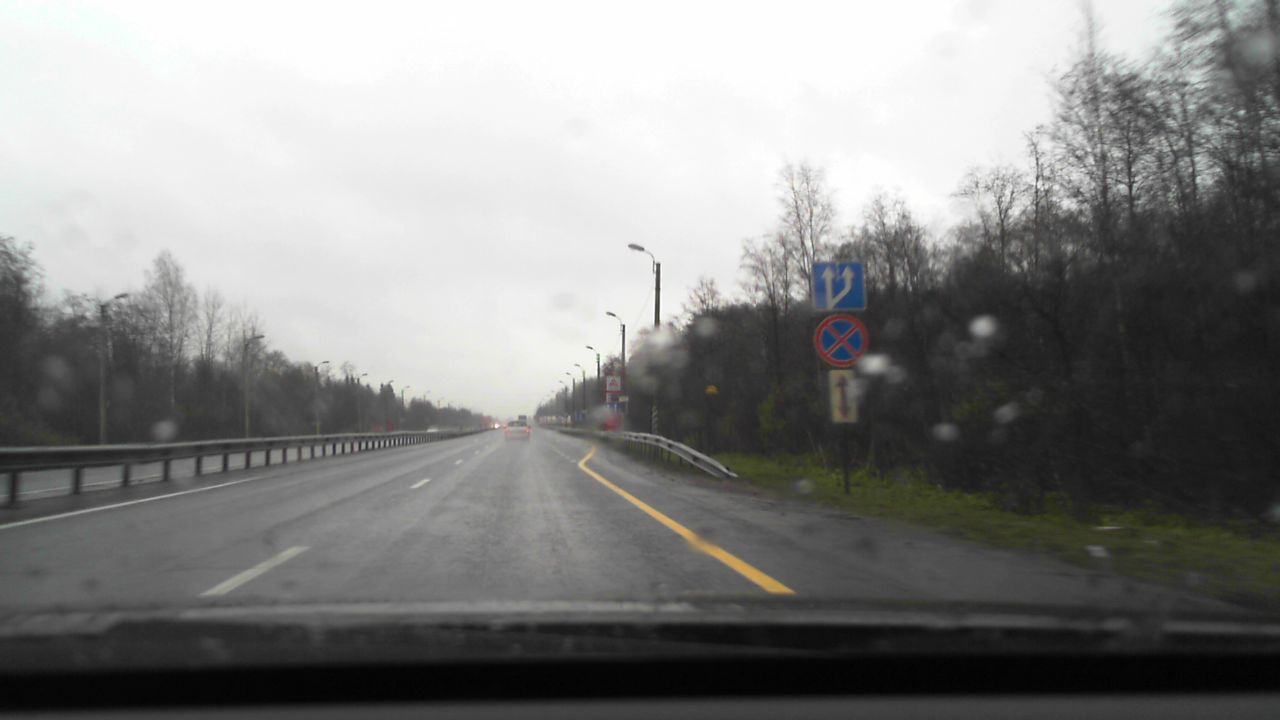No Parking: (811, 318, 867, 367)
